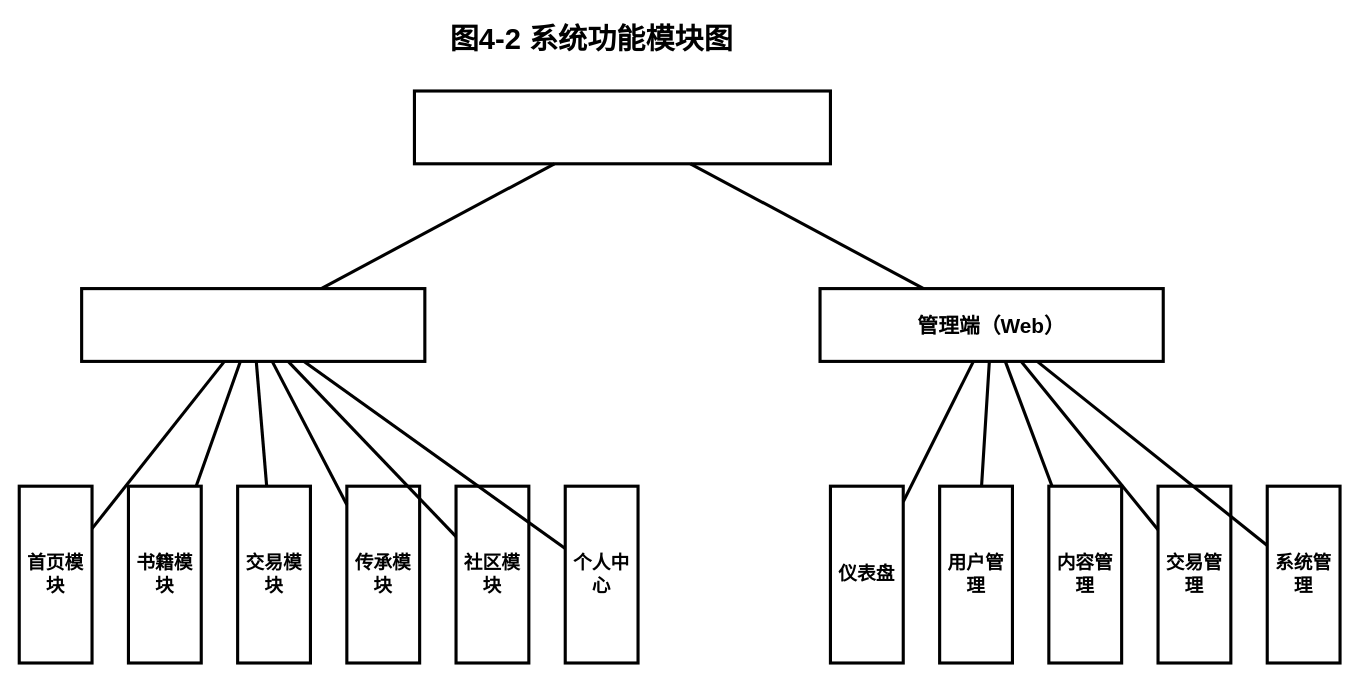
The diagram is 1359 pixels wide and 682 high, and some of its shapes have lost their labels. Here are the shapes that lost their labels. From the top down, the centre of each, then its label:
At pixel 621 127: "校园学术资源传承平台".
At pixel 253 324: "用户端（小程序）".
